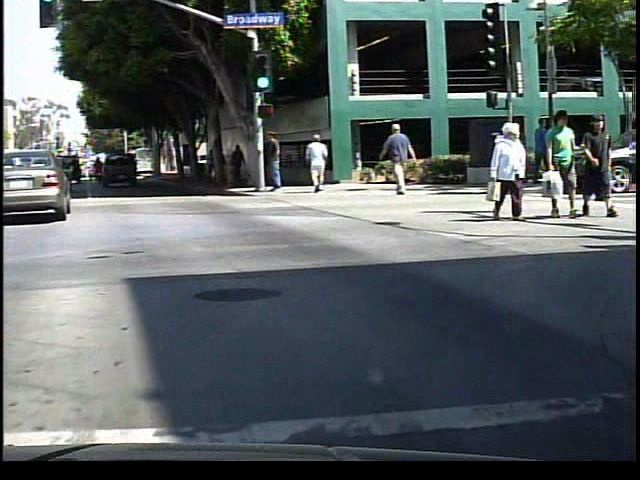person: (490, 121, 542, 225), (548, 108, 585, 221), (584, 111, 622, 218), (384, 123, 423, 195), (533, 112, 561, 187), (271, 127, 297, 200), (310, 132, 337, 196), (234, 139, 254, 190), (220, 146, 235, 189)
